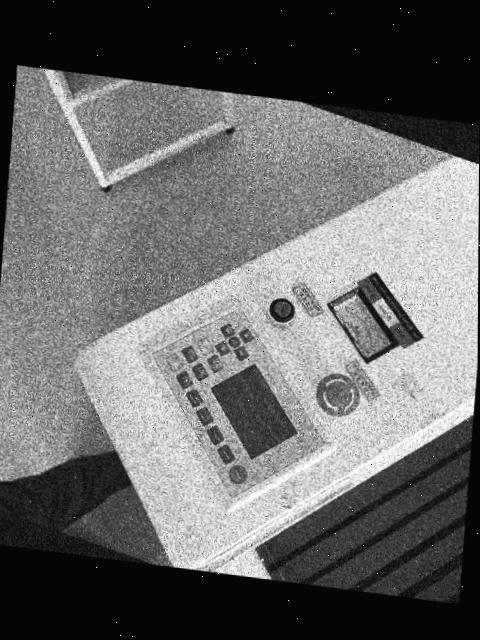Amp_Meter: (329, 288, 391, 358)
Display: (210, 364, 295, 459)
Down_button: (214, 341, 229, 355)
Emergency_Stop: (314, 373, 359, 417)
Enter_button: (196, 337, 212, 354)
Esc_button: (206, 355, 222, 372)
File_button: (175, 371, 191, 388)
Frame_button: (181, 345, 197, 362)
Left_button: (232, 346, 247, 360)
Max-Power_button: (185, 389, 202, 407)
Min-Power_button: (195, 407, 212, 425)
Origin_button: (190, 363, 207, 380)
Power_switch: (266, 297, 302, 328)
Pulse_button: (216, 445, 234, 464)
Reset_button: (227, 465, 246, 484)
Right_button: (219, 323, 233, 337)
Speed_button: (205, 426, 222, 444)
Start-Pause_button: (165, 353, 182, 371)
Up_button: (238, 328, 252, 342)
Z_U_button: (226, 336, 239, 348)
